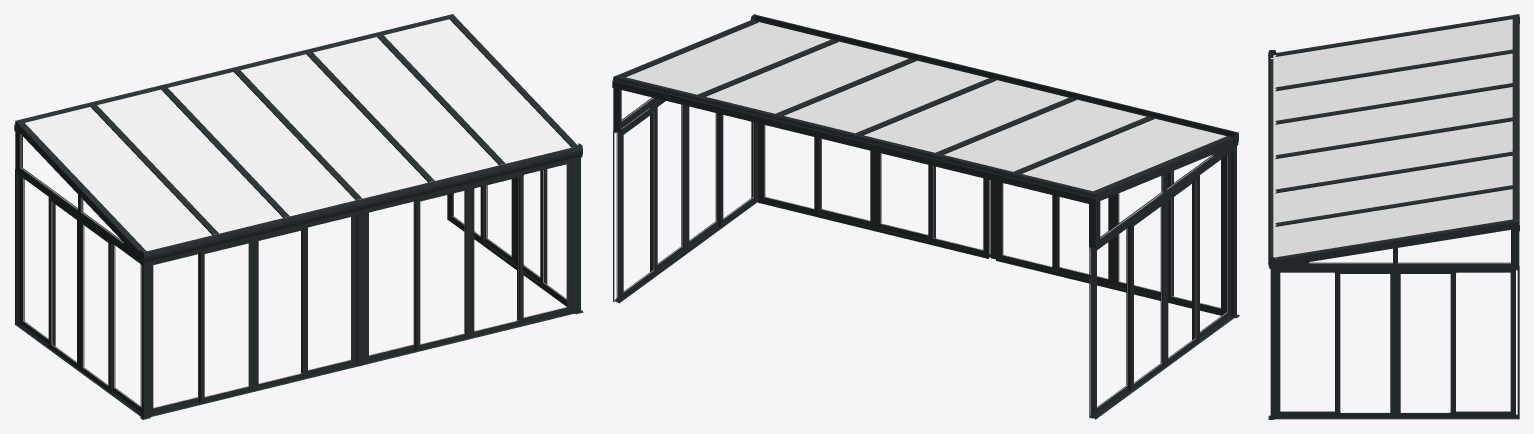
3 renders of one model, left to right at view 1: azimuth 30°, elevation 25°; view 2: azimuth 150°, elevation 25°; view 3: azimuth 270°, elevation 25°, orthographic. The views are drawn at different scales.
Parts seen in each view (by area): view 1: priximbattable_net_pergolanda_260856_pergolanda_top_prix_4x3, folha2_2, folha2_3, folha3_2, folha3_3, folha3, folha4_3, folha2, folha4_2, folha1, folha1_2, folha1_3 (+5 smaller); view 2: priximbattable_net_pergolanda_260856_pergolanda_top_prix_4x3, folha2, folha4_4, folha3, folha1, folha3_4, folha4, folha1_2, folha1_4, folha4_2, folha4_3, folha2_4 (+5 smaller); view 3: priximbattable_net_pergolanda_260856_pergolanda_top_prix_4x3, folha2_4, folha3_4, folha4_4, folha1_4.
Part boxes in pixels (bbox=[...]): priximbattable_net_pergolanda_260856_pergolanda_top_prix_4x3: bbox=[14, 14, 583, 419]; folha2_2: bbox=[199, 238, 254, 403]; folha2_3: bbox=[415, 186, 469, 350]; folha3_2: bbox=[254, 225, 308, 389]; folha3_3: bbox=[470, 172, 523, 337]; folha3: bbox=[79, 219, 112, 392]; folha4_3: bbox=[516, 161, 571, 322]; folha2: bbox=[48, 196, 79, 369]; folha4_2: bbox=[300, 213, 355, 375]; folha1: bbox=[20, 175, 55, 345]; folha1_2: bbox=[151, 252, 198, 413]; folha1_3: bbox=[367, 199, 414, 360]; priximbattable_net_pergolanda_260856_pergolanda_top_prix_4x3: bbox=[612, 14, 1239, 419]; folha2: bbox=[1128, 199, 1165, 391]; folha4_4: bbox=[620, 106, 657, 299]; folha3: bbox=[1165, 174, 1199, 365]; folha1: bbox=[1092, 226, 1128, 415]; folha3_4: bbox=[650, 99, 686, 271]; folha4: bbox=[1192, 152, 1230, 339]; folha1_2: bbox=[1167, 157, 1224, 313]; folha1_4: bbox=[718, 113, 757, 226]; folha4_2: bbox=[998, 182, 1058, 273]; folha4_3: bbox=[760, 124, 820, 215]; folha2_4: bbox=[686, 106, 718, 249]; priximbattable_net_pergolanda_260856_pergolanda_top_prix_4x3: bbox=[1268, 14, 1519, 419]; folha2_4: bbox=[1334, 270, 1395, 417]; folha3_4: bbox=[1395, 270, 1456, 417]; folha4_4: bbox=[1450, 270, 1515, 416]; folha1_4: bbox=[1276, 270, 1340, 416].
Size of the model in its own units: 593 by 263 by 303.
1 material, 1 textured.
